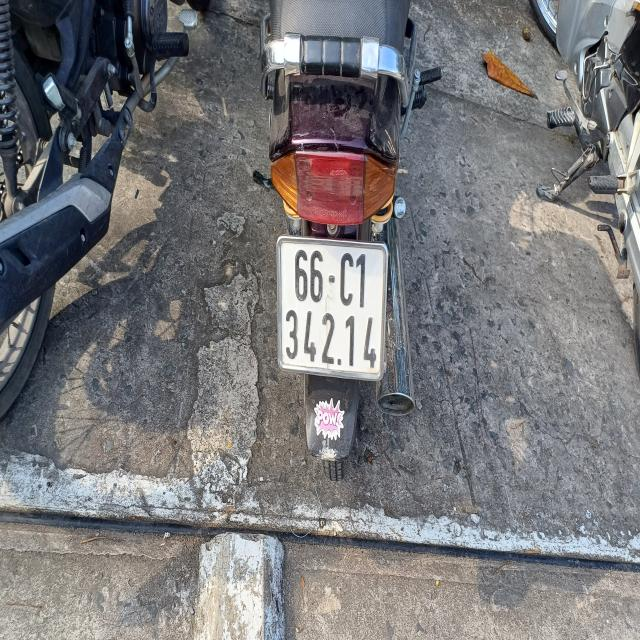1: (356, 254, 368, 310), (345, 316, 356, 367)
2: (322, 314, 335, 365)
3: (281, 306, 299, 366)
4: (303, 310, 317, 366), (363, 317, 377, 368)
6: (311, 247, 326, 308), (294, 250, 310, 304)
C: (339, 252, 355, 308)
